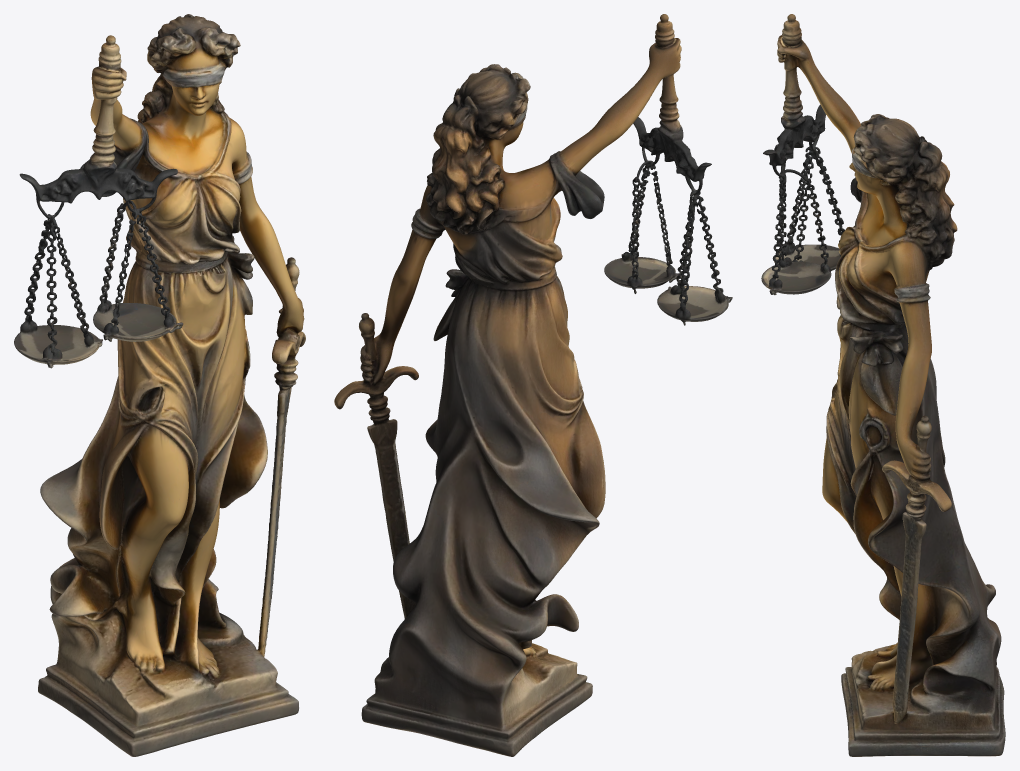
File: lady_justice.glb
3 views of the same model, side by side, from view 1: azimuth 30°, elevation 25°; view 2: azimuth 150°, elevation 25°; view 3: azimuth 270°, elevation 25° (orthographic). The views are drawn at different scales.
Visible parts, largest first — view 1: Object_5; view 2: Object_5; view 3: Object_5.
Part boxes in pixels (left/top/right/bottom): Object_5: left=14, top=14, right=305, bottom=756; Object_5: left=334, top=14, right=732, bottom=756; Object_5: left=761, top=14, right=1005, bottom=756.
Bounding box in the file's own units: 0.9942 × 2 × 0.6796.
Materials: 1 (1 with a texture image).
